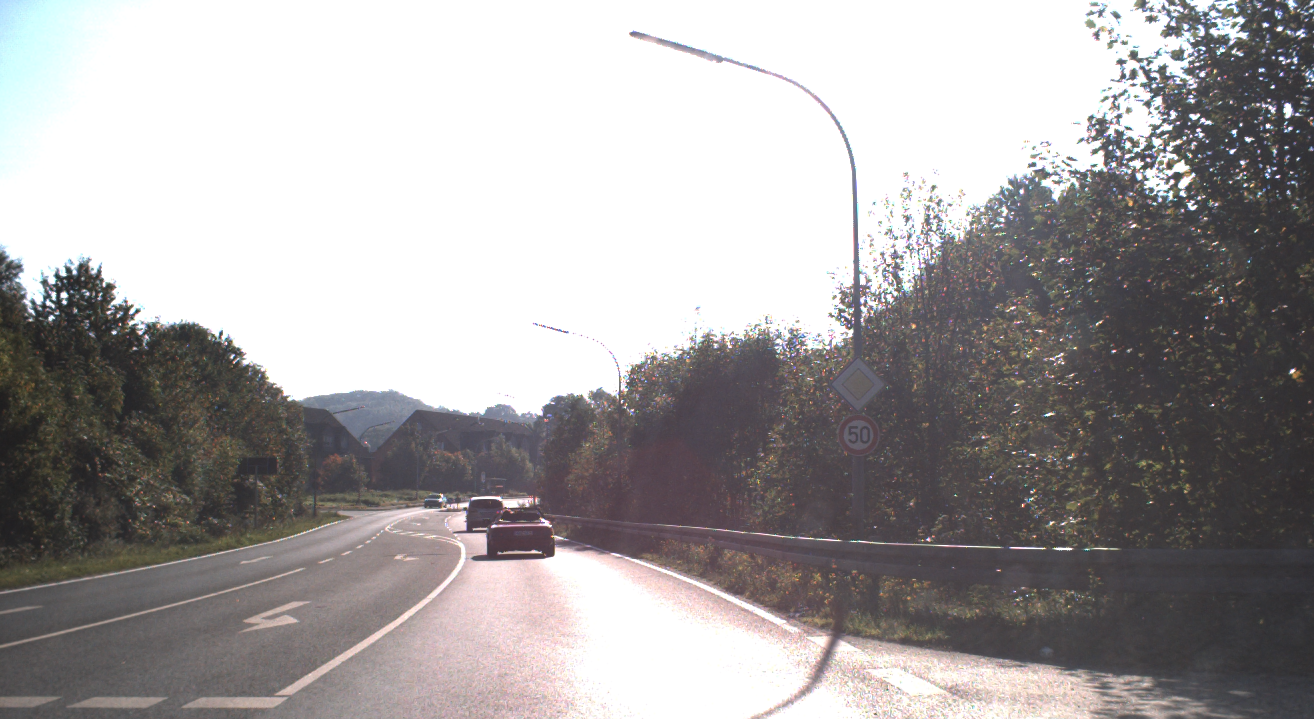yellow: (824, 356, 889, 415)
